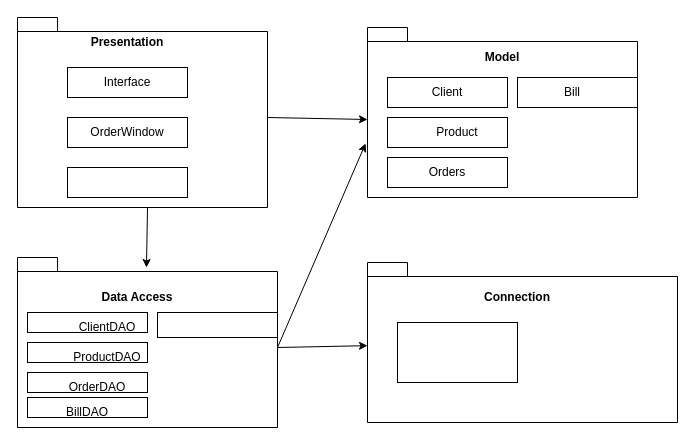
This 695x445 diagram has some shape labels left out. The centre of each missing label's shape, as x and y in pixels:
AbstractDAO: pixel 217 325
ConnectionFactory: pixel 457 352
ProductWindow: pixel 127 182
